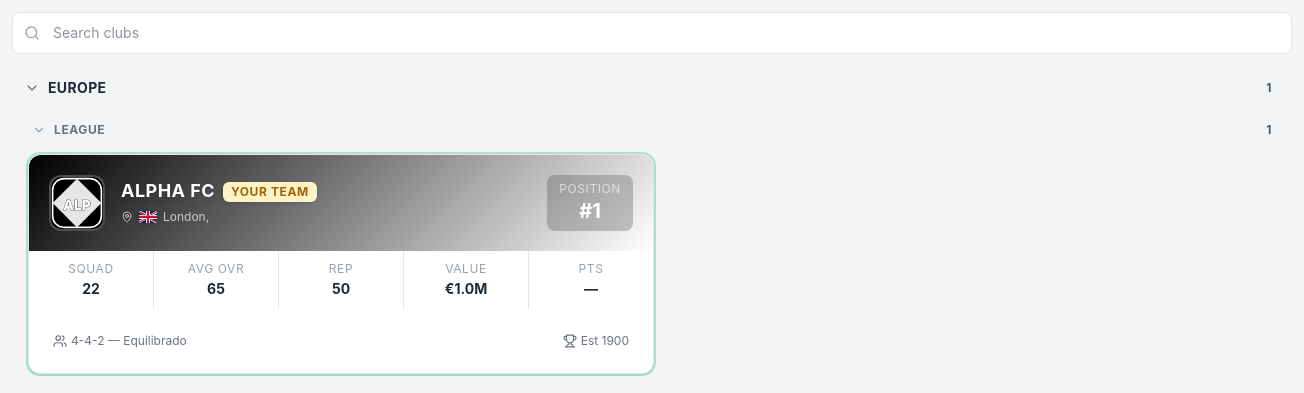
Scenario: TeamsListTab › shows an empty state when no clubs match
The width and height of the screenshot is (1304, 393).
Expected: the heading "Alpha FC Your Team" is shown, x1=121 y1=180 x2=317 y2=202
Type "zzzzz" into the field with placeholder "Search clubs" at x=652, y=33, box x1=12 y1=12 x2=1292 y2=54
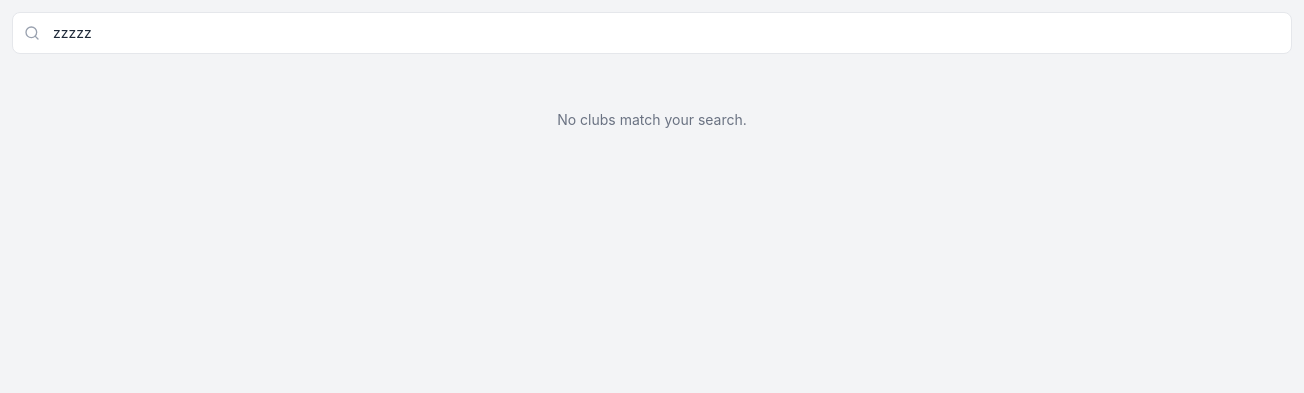
Now the text "No clubs match your search." is shown, box x1=557 y1=111 x2=747 y2=128
